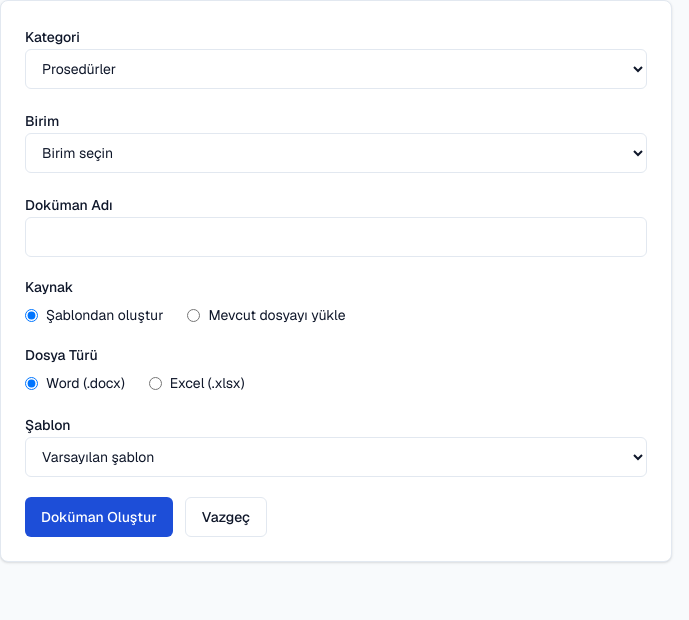
Test: NewDocumentForm › server errors › shows the Turkish message of an API error and stays on the page
Select "Kalite Koordinatörlüğü" in the dropdown labelled "Birim" at (336, 153), box [25,133,647,173]
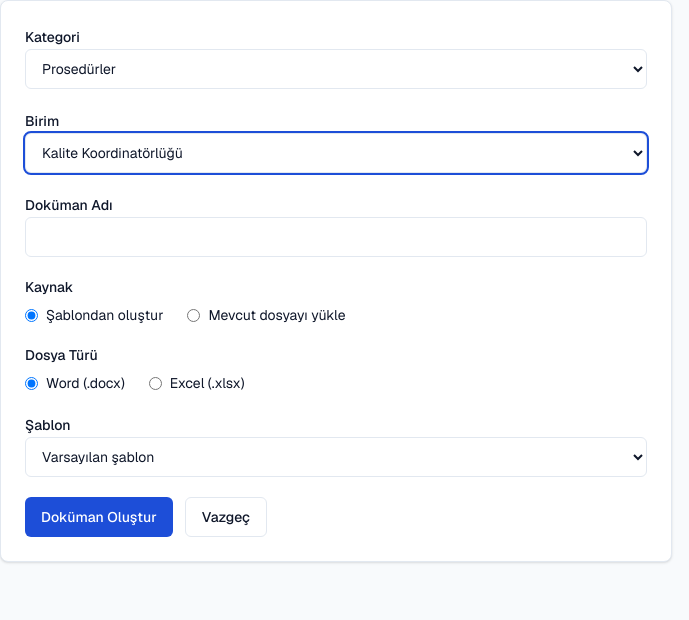
Type "Hata Denemesi" into the field labelled "Doküman Adı" at (336, 237), box [25,217,647,257]
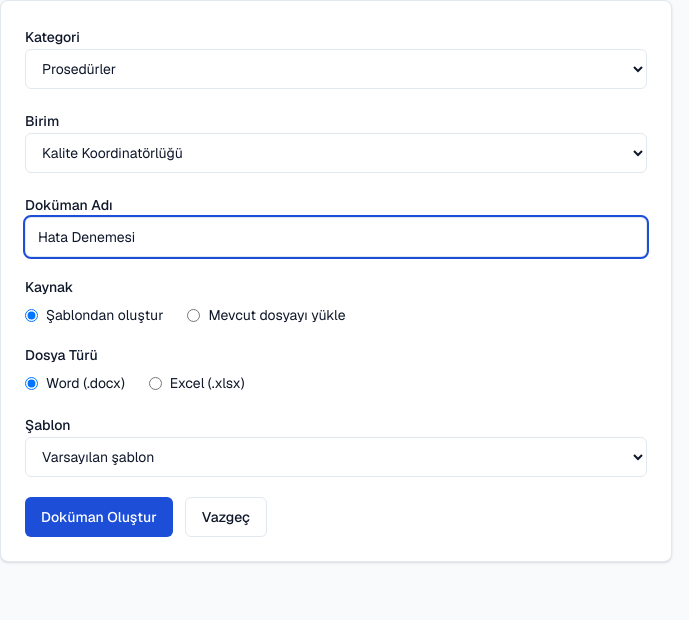
Click the button "Doküman Oluştur" at (99, 517), box [25,497,173,537]
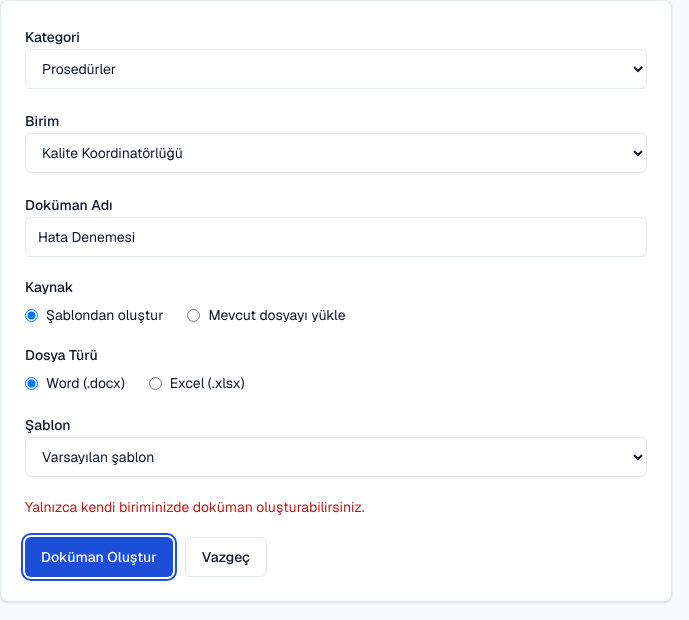
Expected: the button "Doküman Oluştur" is enabled, [25,537,173,577]
Now the message reads "Yalnızca kendi biriminizde doküman oluşturabilirsiniz.", box [25,498,365,516]
